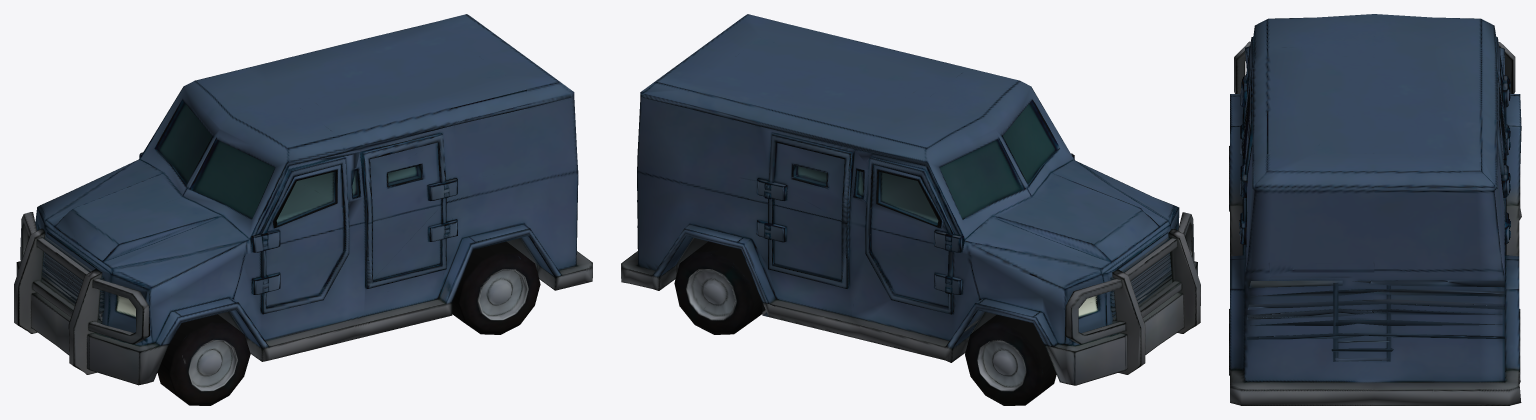
Rendered from 58-armored-cash-transport-van.glb.
3 renders of one model, left to right at view 1: azimuth 30°, elevation 25°; view 2: azimuth 150°, elevation 25°; view 3: azimuth 270°, elevation 25°, orthographic. The views are drawn at different scales.
Visible parts, largest first — view 1: geometry_0; view 2: geometry_0; view 3: geometry_0.
Boxes of the visible parts, x1=… form: geometry_0: x1=14, y1=14, x2=592, y2=405; geometry_0: x1=621, y1=14, x2=1200, y2=405; geometry_0: x1=1229, y1=14, x2=1521, y2=405.
Size of the model in its own units: 0.957 by 0.4199 by 0.4277.
1 material, 1 textured.
